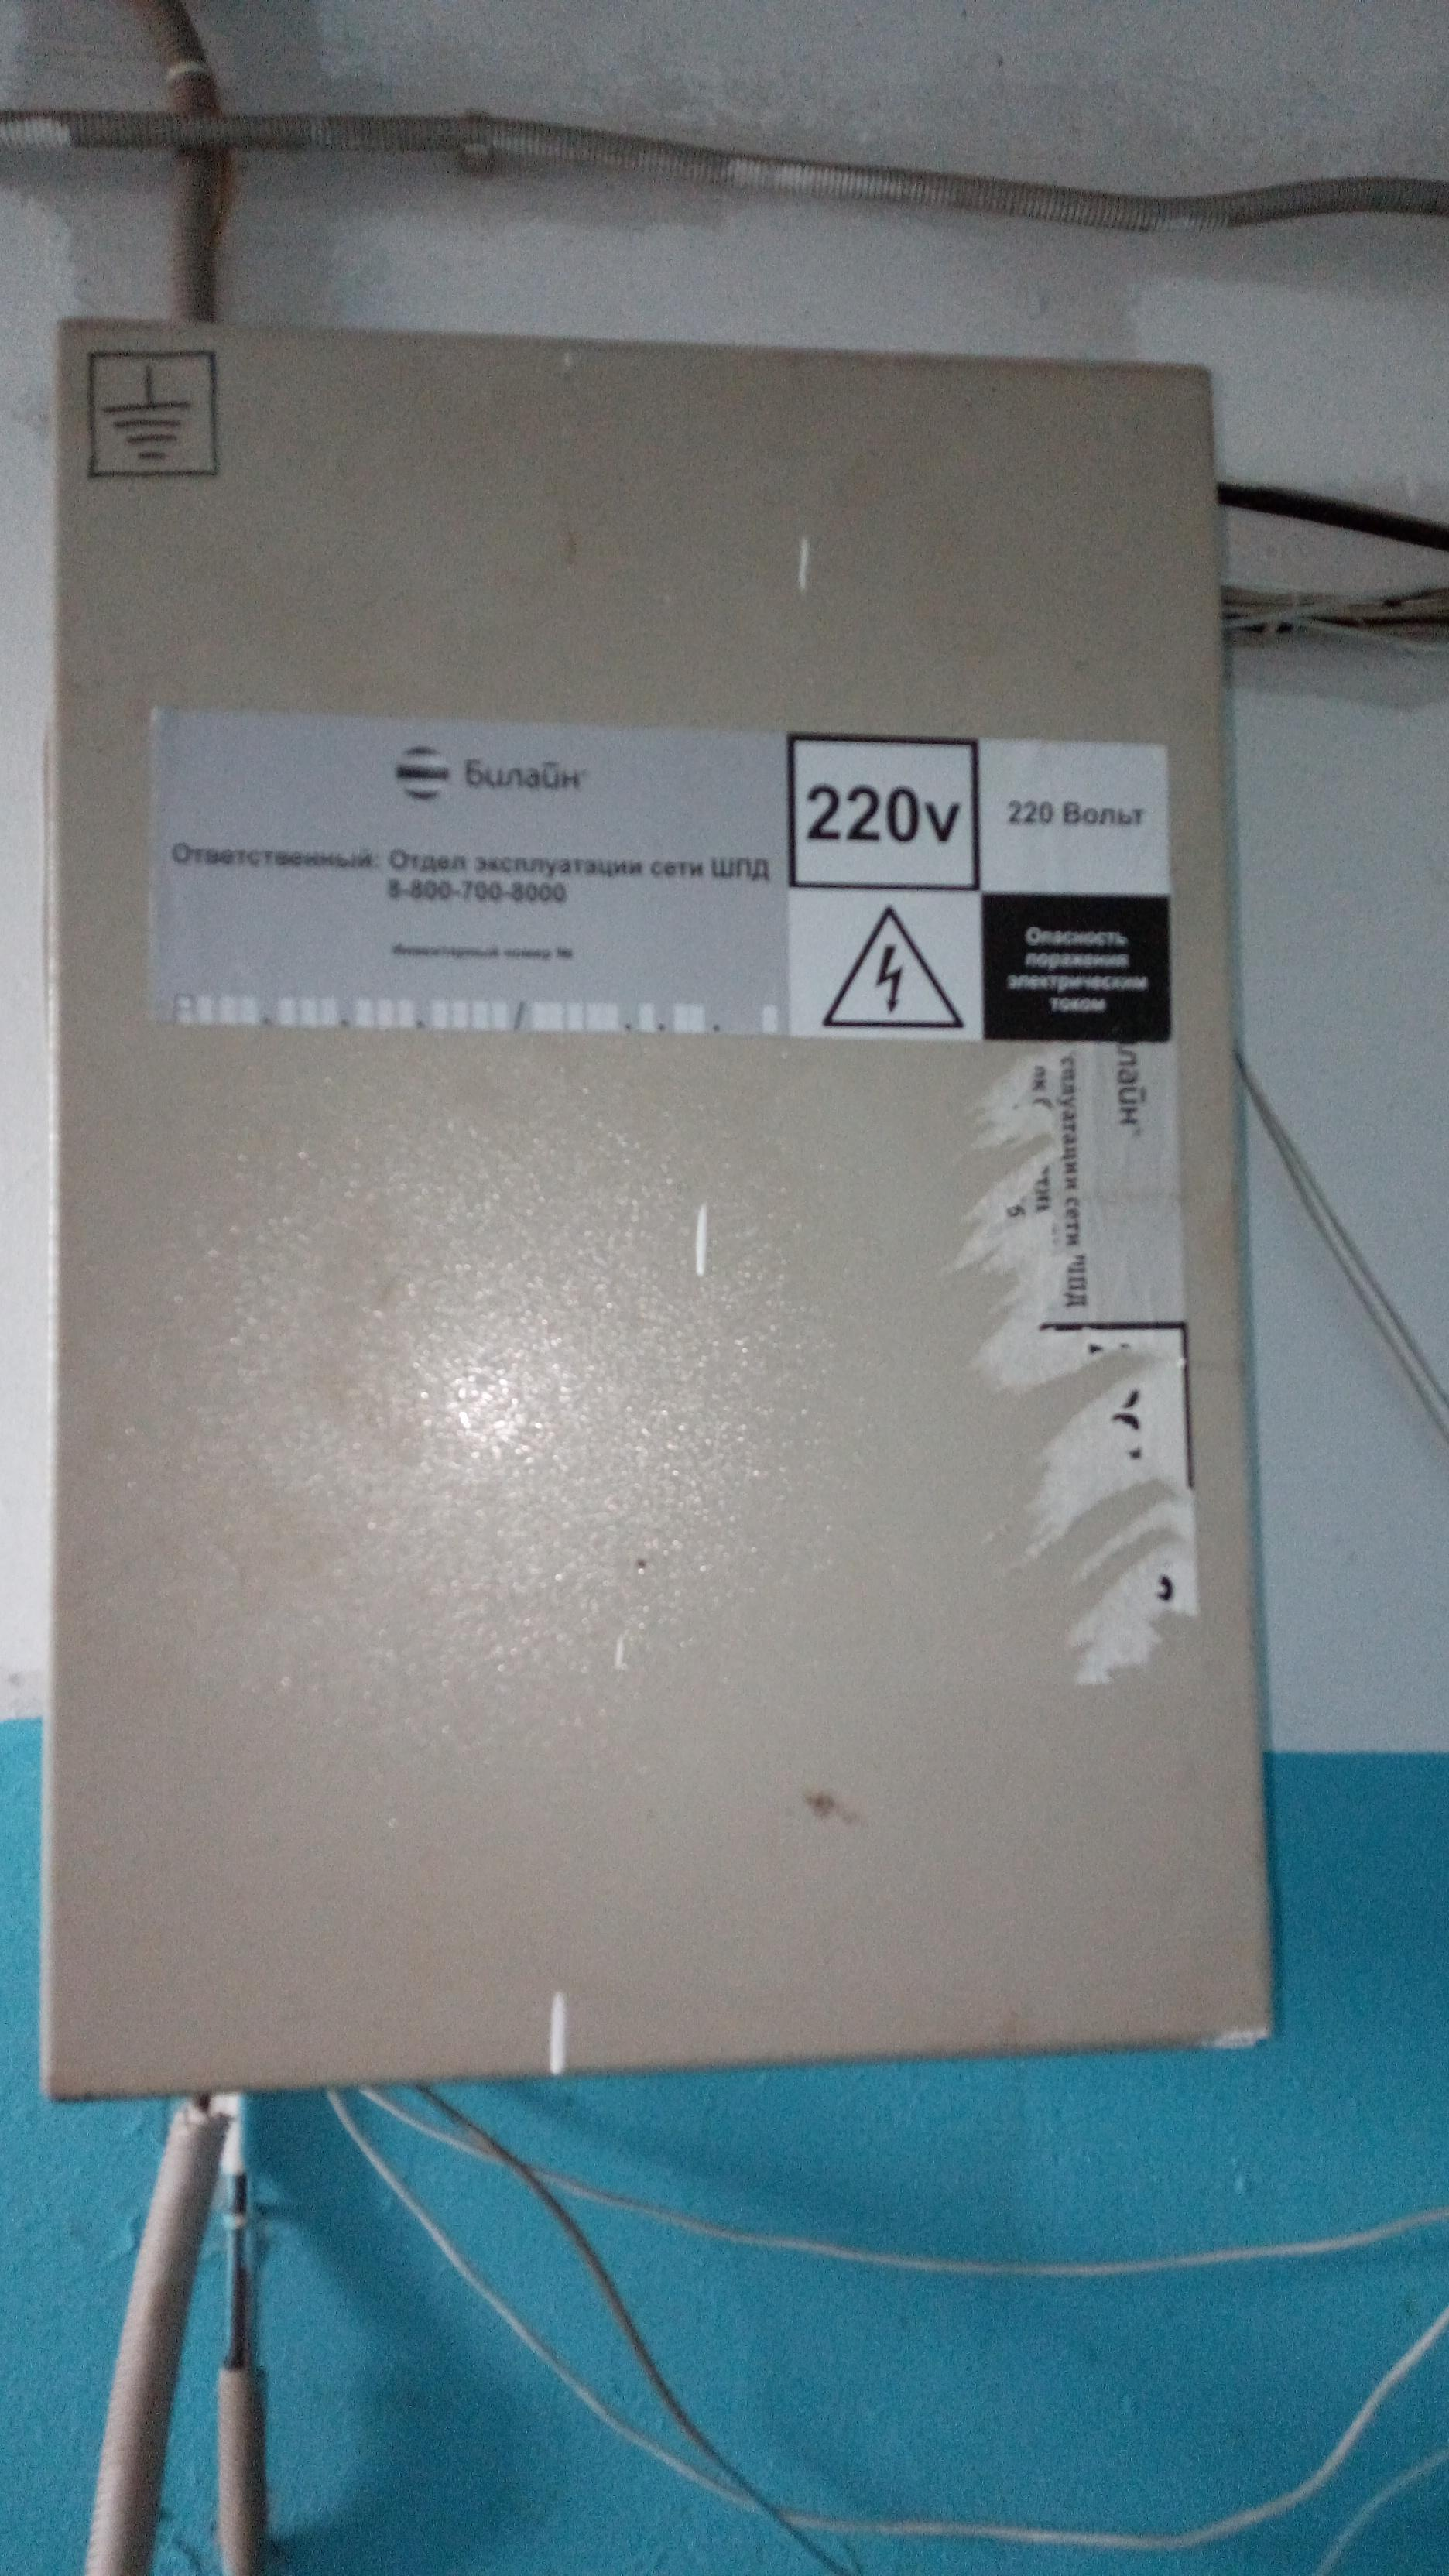sv-5: (25, 295, 1286, 2118)
